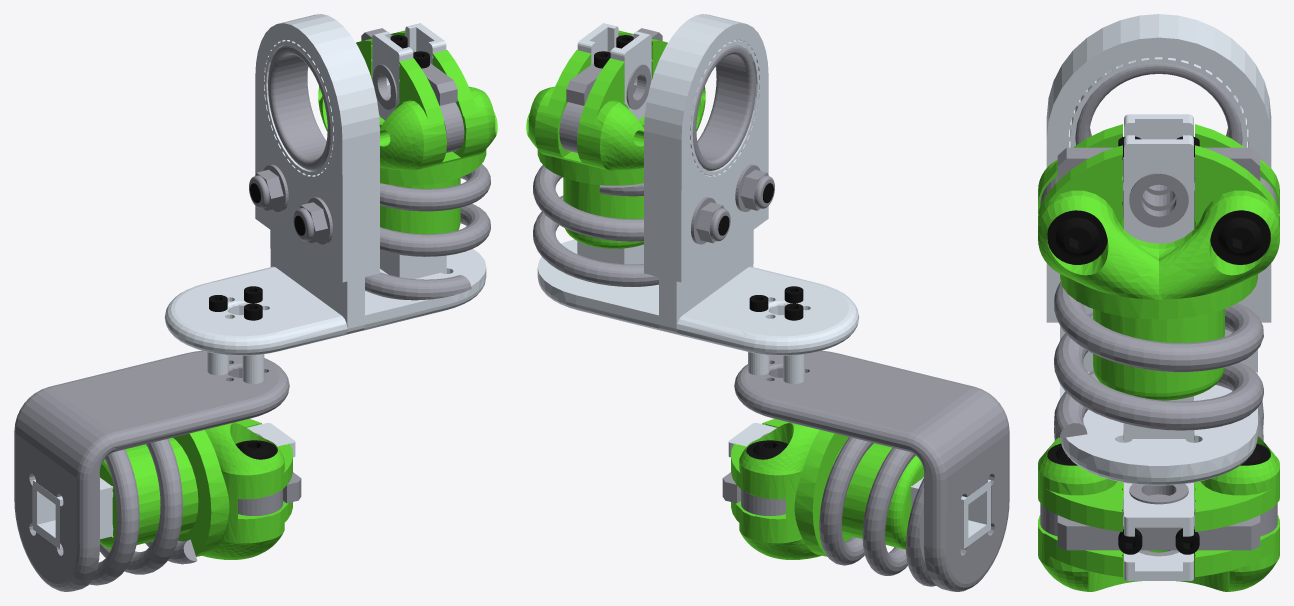
Rendered from sea_arm_01_assem_03_shoulder_yaw_link.dae.
3 renders of one model, left to right at view 1: azimuth 30°, elevation 25°; view 2: azimuth 150°, elevation 25°; view 3: azimuth 270°, elevation 25°, orthographic. The views are drawn at different scales.
Visible parts, largest first — view 1: SEA_Arm_01_Assem_03_-_Al_Angle_00_BDR_03-1, SEA_Arm_01_Assem_03_-_EC32Bearing_Support_07-1, SEA_Arm_01_Assem_03_-_Sliding_Tube_11-1, SEA_Arm_01_Assem_03_-_Al_Humerus_00_PLATE_01-3, SEA_Arm_01_Assem_03_-_Sliding_Tube_11-2, SEA_Arm_01_Assem_03_-_Spiral_Spring_02-2, SEA_Arm_01_Assem_03_-_Spiral_Spring_02-1, SEA_Arm_01_Assem_03_-_1_25_Needle-1, SEA_Arm_01_Assem_03_-_SEA_Tube_03-1, SEA_Arm_01_Assem_03_-_Al_Humerus_00_PLATE_01-4, SEA_Arm_01_Assem_03_-_SEA_Tube_03-2, SEA_Arm_01_Assem_03_-_Rocker_Bar_02-2 (+6 smaller); view 2: SEA_Arm_01_Assem_03_-_Al_Angle_00_BDR_03-1, SEA_Arm_01_Assem_03_-_EC32Bearing_Support_07-1, SEA_Arm_01_Assem_03_-_Al_Humerus_00_PLATE_01-3, SEA_Arm_01_Assem_03_-_Sliding_Tube_11-1, SEA_Arm_01_Assem_03_-_Sliding_Tube_11-2, SEA_Arm_01_Assem_03_-_Spiral_Spring_02-1, SEA_Arm_01_Assem_03_-_Spiral_Spring_02-2, SEA_Arm_01_Assem_03_-_1_25_Needle-1, SEA_Arm_01_Assem_03_-_Al_Humerus_00_PLATE_01-4, SEA_Arm_01_Assem_03_-_SEA_Tube_03-1, SEA_Arm_01_Assem_03_-_SEA_Tube_03-2, SEA_Arm_01_Assem_03_-_Rocker_Bar_02-2 (+7 smaller); view 3: SEA_Arm_01_Assem_03_-_Sliding_Tube_11-2, SEA_Arm_01_Assem_03_-_Spiral_Spring_02-2, SEA_Arm_01_Assem_03_-_EC32Bearing_Support_07-1, SEA_Arm_01_Assem_03_-_Sliding_Tube_11-1, SEA_Arm_01_Assem_03_-_Al_Humerus_00_PLATE_01-3, SEA_Arm_01_Assem_03_-_SEA_Tube_03-1, SEA_Arm_01_Assem_03_-_Rocker_Bar_02-1, SEA_Arm_01_Assem_03_-_SEA_Tube_03-2, SEA_Arm_01_Assem_03_-_1_25_Needle-1, SEA_Arm_01_Assem_03_-_M6_Buttonhead_01-3, SEA_Arm_01_Assem_03_-_M6_Buttonhead_01-4, SEA_Arm_01_Assem_03_-_8mm_Flanged_01-1 (+10 smaller).
Boxes of the visible parts, x1,y1,x2,y2 form: SEA_Arm_01_Assem_03_-_Al_Angle_00_BDR_03-1: (14,350,289,591); SEA_Arm_01_Assem_03_-_EC32Bearing_Support_07-1: (255,14,379,282); SEA_Arm_01_Assem_03_-_Sliding_Tube_11-1: (99,418,292,559); SEA_Arm_01_Assem_03_-_Al_Humerus_00_PLATE_01-3: (164,249,486,355); SEA_Arm_01_Assem_03_-_Sliding_Tube_11-2: (318,30,497,234); SEA_Arm_01_Assem_03_-_Spiral_Spring_02-2: (365,164,490,300); SEA_Arm_01_Assem_03_-_Spiral_Spring_02-1: (89,438,197,585); SEA_Arm_01_Assem_03_-_1_25_Needle-1: (268,45,331,170); SEA_Arm_01_Assem_03_-_SEA_Tube_03-1: (372,23,446,278); SEA_Arm_01_Assem_03_-_Al_Humerus_00_PLATE_01-4: (270,230,364,334); SEA_Arm_01_Assem_03_-_SEA_Tube_03-2: (33,422,295,548); SEA_Arm_01_Assem_03_-_Rocker_Bar_02-2: (361,28,457,105); SEA_Arm_01_Assem_03_-_Al_Angle_00_BDR_03-1: (734,350,1009,591); SEA_Arm_01_Assem_03_-_EC32Bearing_Support_07-1: (644,14,768,282); SEA_Arm_01_Assem_03_-_Al_Humerus_00_PLATE_01-3: (537,239,859,355); SEA_Arm_01_Assem_03_-_Sliding_Tube_11-1: (731,419,924,559); SEA_Arm_01_Assem_03_-_Sliding_Tube_11-2: (526,30,705,248); SEA_Arm_01_Assem_03_-_Spiral_Spring_02-1: (819,437,935,586); SEA_Arm_01_Assem_03_-_Spiral_Spring_02-2: (533,165,658,286); SEA_Arm_01_Assem_03_-_1_25_Needle-1: (692,45,755,170); SEA_Arm_01_Assem_03_-_Al_Humerus_00_PLATE_01-4: (659,230,753,334); SEA_Arm_01_Assem_03_-_SEA_Tube_03-1: (577,23,651,264); SEA_Arm_01_Assem_03_-_SEA_Tube_03-2: (728,422,990,548); SEA_Arm_01_Assem_03_-_Rocker_Bar_02-2: (566,28,662,105); SEA_Arm_01_Assem_03_-_Sliding_Tube_11-2: (1038,124,1279,400); SEA_Arm_01_Assem_03_-_Spiral_Spring_02-2: (1054,281,1263,438); SEA_Arm_01_Assem_03_-_EC32Bearing_Support_07-1: (1046,14,1271,322); SEA_Arm_01_Assem_03_-_Sliding_Tube_11-1: (1038,436,1279,591); SEA_Arm_01_Assem_03_-_Al_Humerus_00_PLATE_01-3: (1060,372,1257,485); SEA_Arm_01_Assem_03_-_SEA_Tube_03-1: (1124,114,1193,442); SEA_Arm_01_Assem_03_-_Rocker_Bar_02-1: (1057,515,1260,550); SEA_Arm_01_Assem_03_-_SEA_Tube_03-2: (1124,482,1193,580); SEA_Arm_01_Assem_03_-_1_25_Needle-1: (1075,63,1242,185); SEA_Arm_01_Assem_03_-_M6_Buttonhead_01-3: (1047,210,1107,264); SEA_Arm_01_Assem_03_-_M6_Buttonhead_01-4: (1210,210,1270,264); SEA_Arm_01_Assem_03_-_8mm_Flanged_01-1: (1129,173,1188,227).
Size of the model in its own units: 0.1466 by 0.055 by 0.1608.
